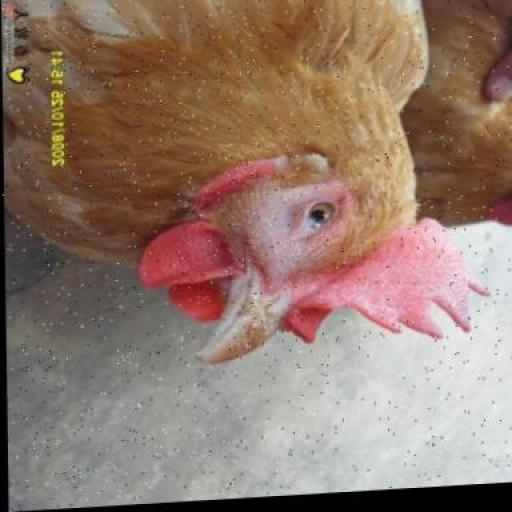disease: (244, 173, 380, 273)
